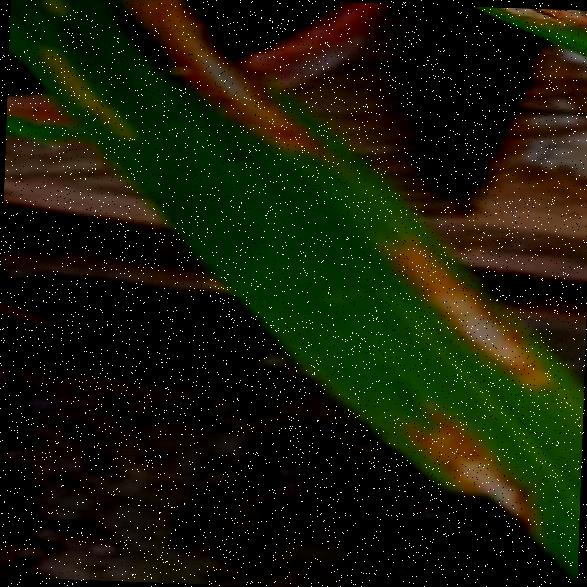Leaf_smut: (329, 356, 540, 532), (376, 210, 551, 396), (134, 0, 310, 153), (20, 26, 140, 155)
